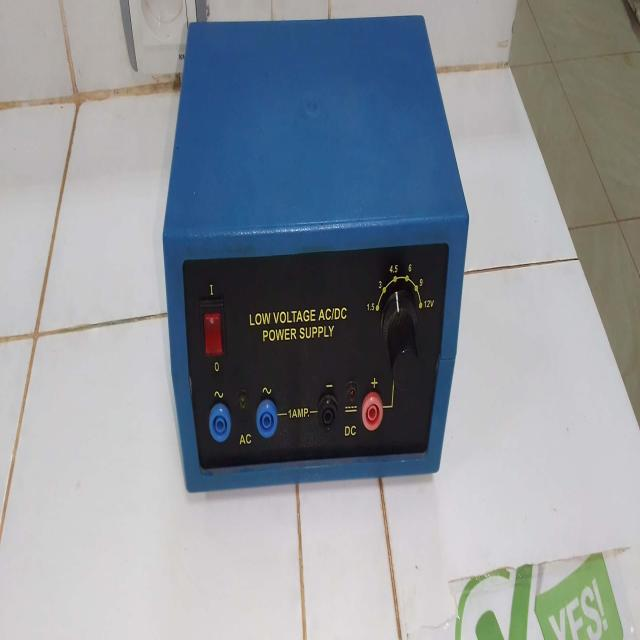Analog DC Power Supply: (154, 1, 473, 507)
